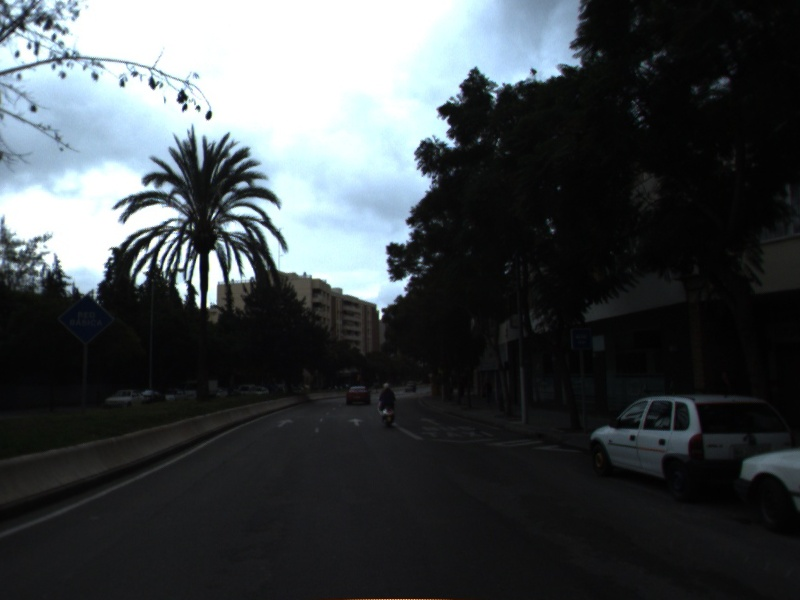STRAIGHT: (418, 415, 443, 427), (275, 417, 296, 429), (346, 416, 366, 428)
